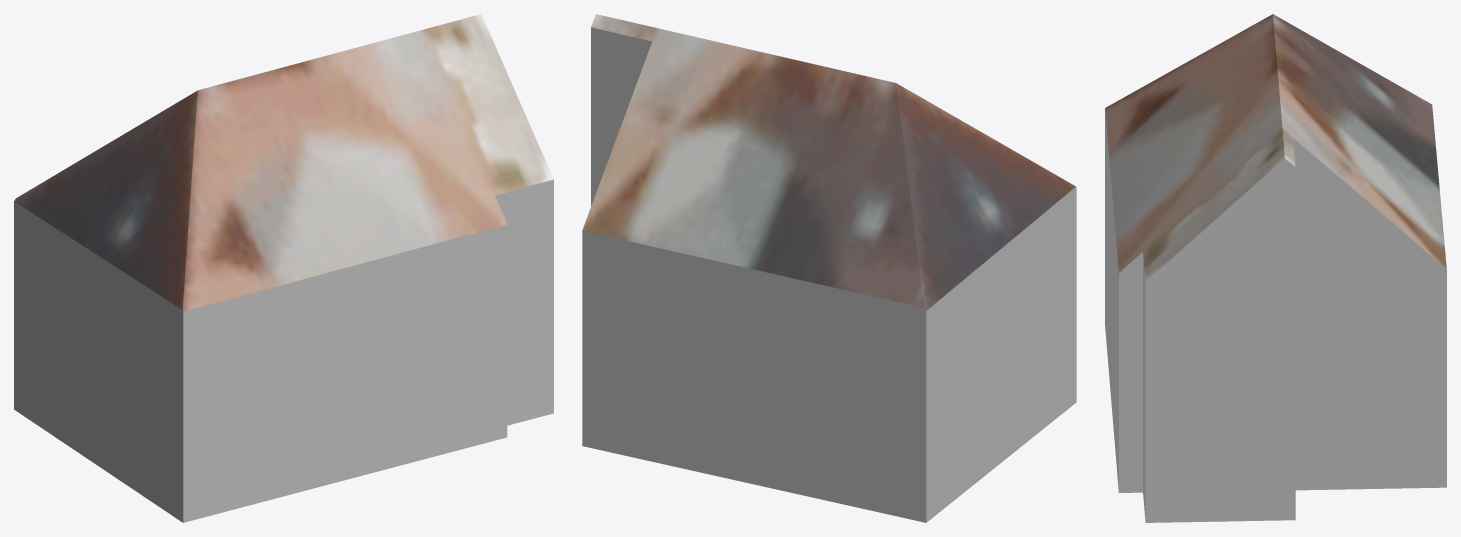
Rendered from DEBW_0010007Txes.gltf.
3 renders of one model, left to right at view 1: azimuth 30°, elevation 25°; view 2: azimuth 150°, elevation 25°; view 3: azimuth 270°, elevation 25°, orthographic. The views are drawn at different scales.
Visible parts, largest first — view 1: Z_UP; view 2: Z_UP; view 3: Z_UP.
Boxes of the visible parts, box(x1,y1,x2,y2) form: Z_UP: box(14, 14, 553, 522); Z_UP: box(582, 14, 1076, 522); Z_UP: box(1105, 14, 1446, 522).
Size of the model in its own units: 14.64 by 12.25 by 10.47.
2 materials, 1 textured.
